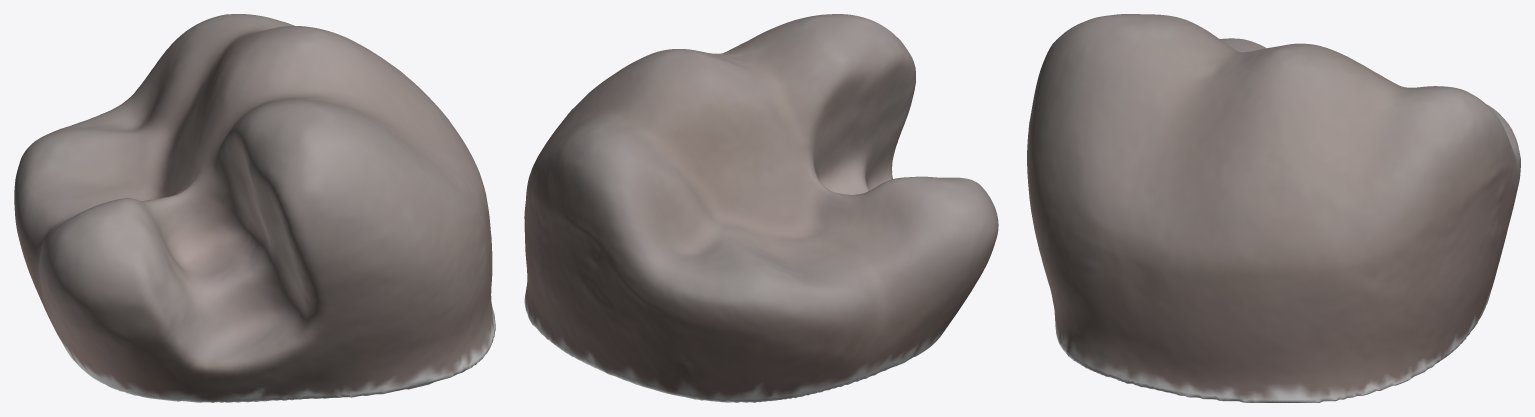
The model's file is PC Clase II - Corte Oclusal.glb.
The picture shows the model from 3 angles, left to right: view 1: azimuth 30°, elevation 25°; view 2: azimuth 150°, elevation 25°; view 3: azimuth 270°, elevation 25°; orthographic projection. The views are drawn at different scales.
Parts seen in each view (by area): view 1: Clase II - Corte Oclusal; view 2: Clase II - Corte Oclusal; view 3: Clase II - Corte Oclusal.
Part boxes in pixels (left/top/right/bottom): Clase II - Corte Oclusal: left=14, top=14, right=495, bottom=402; Clase II - Corte Oclusal: left=524, top=14, right=998, bottom=402; Clase II - Corte Oclusal: left=1027, top=14, right=1520, bottom=402.
Size of the model in its own units: 6.24 by 3.69 by 6.03.
